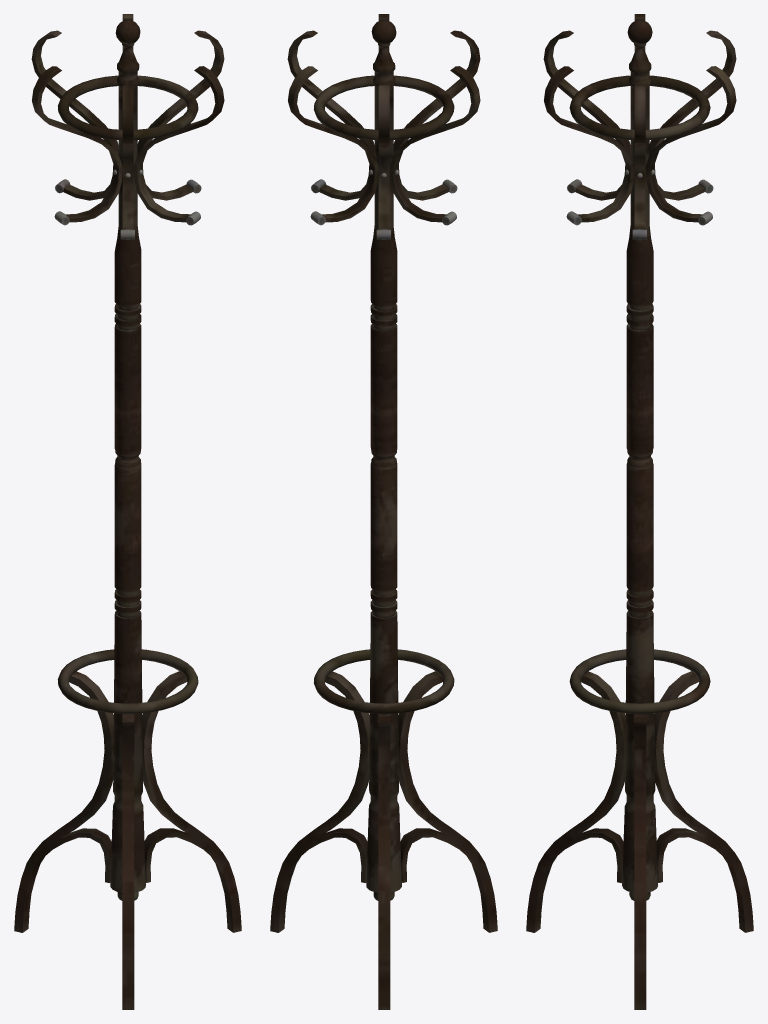
File: obj_coat_rack.glb
The picture shows the model from 3 angles, left to right: view 1: azimuth 30°, elevation 25°; view 2: azimuth 150°, elevation 25°; view 3: azimuth 270°, elevation 25°; orthographic projection.
Visible parts, largest first — view 1: Beam_Material.001_0; view 2: Beam_Material.001_0; view 3: Beam_Material.001_0.
Part boxes in pixels (x1=…): Beam_Material.001_0: x1=14, y1=14, x2=241, y2=1009; Beam_Material.001_0: x1=270, y1=14, x2=497, y2=1009; Beam_Material.001_0: x1=526, y1=14, x2=753, y2=1009.
Size of the model in its own units: 0.4235 by 1.85 by 0.4083.
1 material, 1 textured.
